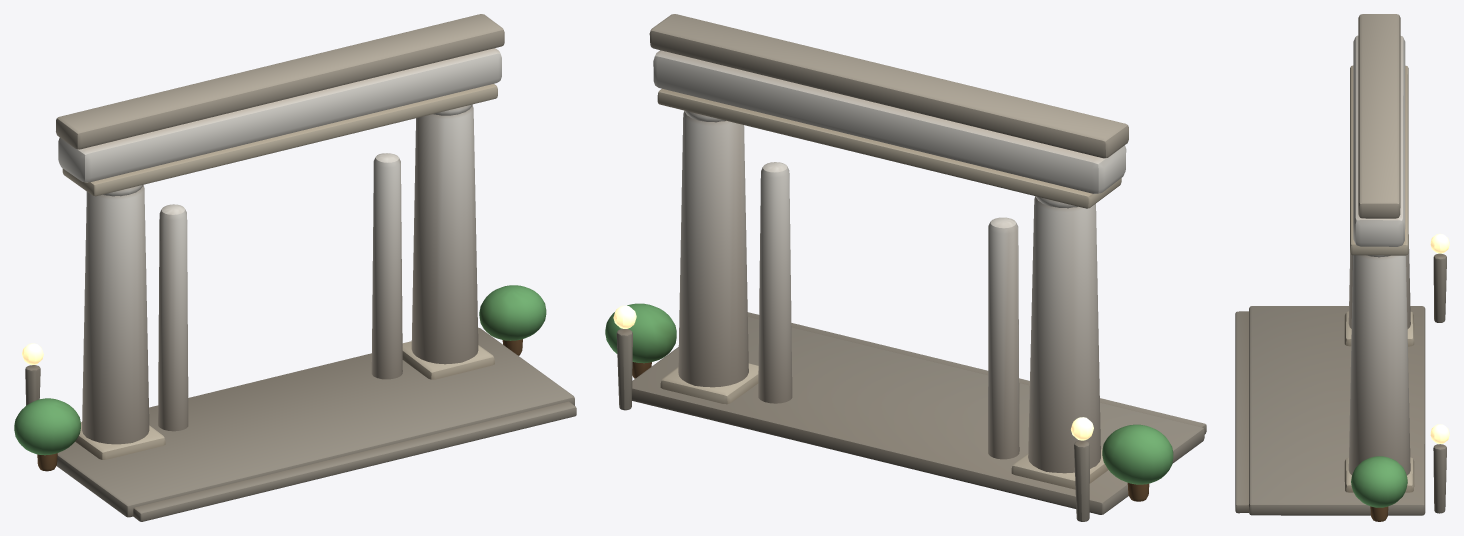
3 views of the same model, side by side, from view 1: azimuth 30°, elevation 25°; view 2: azimuth 150°, elevation 25°; view 3: azimuth 270°, elevation 25° (orthographic). The views are drawn at different scales.
Parts seen in each view (by area): view 1: gate_53c708f2; view 2: gate_53c708f2; view 3: gate_53c708f2.
Boxes of the visible parts, left/top/right/bottom form: gate_53c708f2: left=14, top=14, right=576, bottom=521; gate_53c708f2: left=605, top=14, right=1206, bottom=521; gate_53c708f2: left=1235, top=14, right=1449, bottom=521.
Size of the model in its own units: 6.57 by 4.06 by 2.55.
